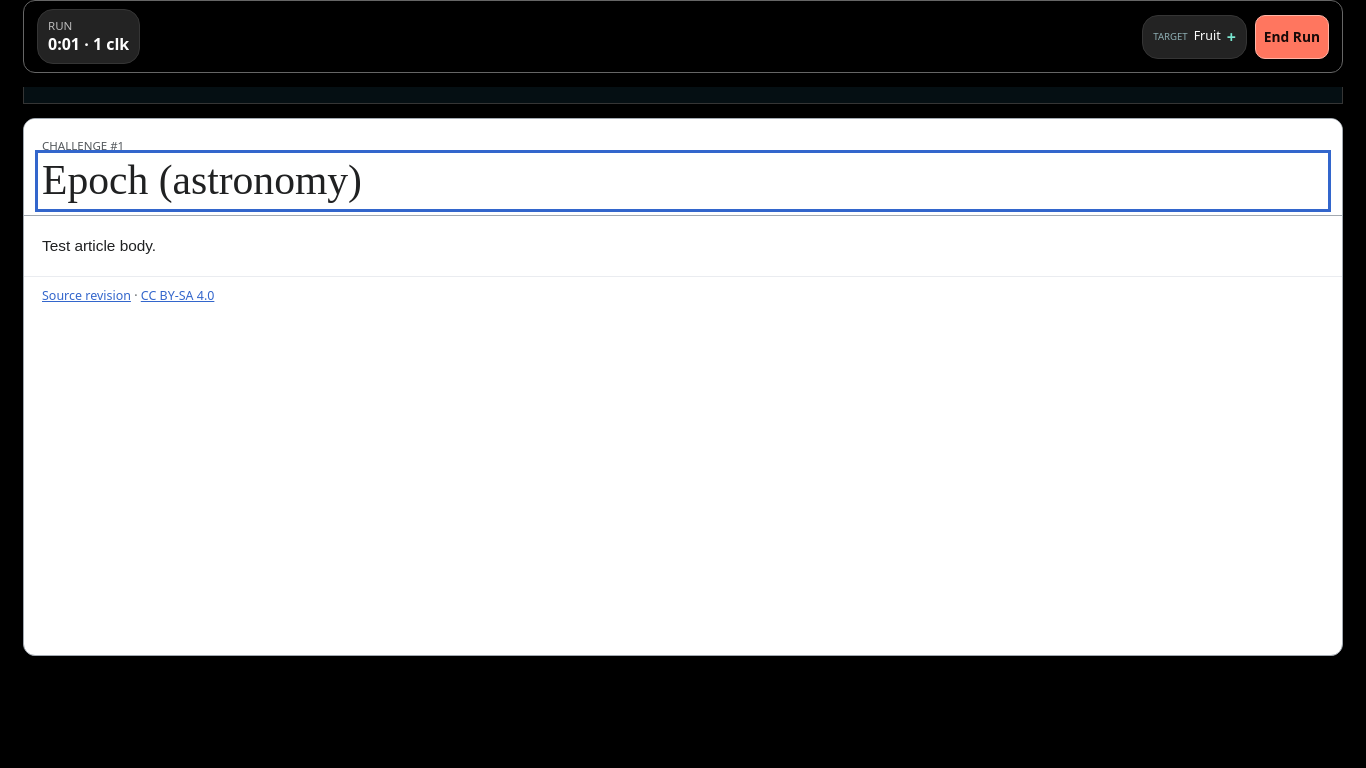
RaceMode › target chip (sticky HUD) › falls back to the not-ready copy when opened before the target preview resolves
Step 1. Click the button with aria-label "Target: Fruit" → (1194, 36), box [1142,14,1247,58]
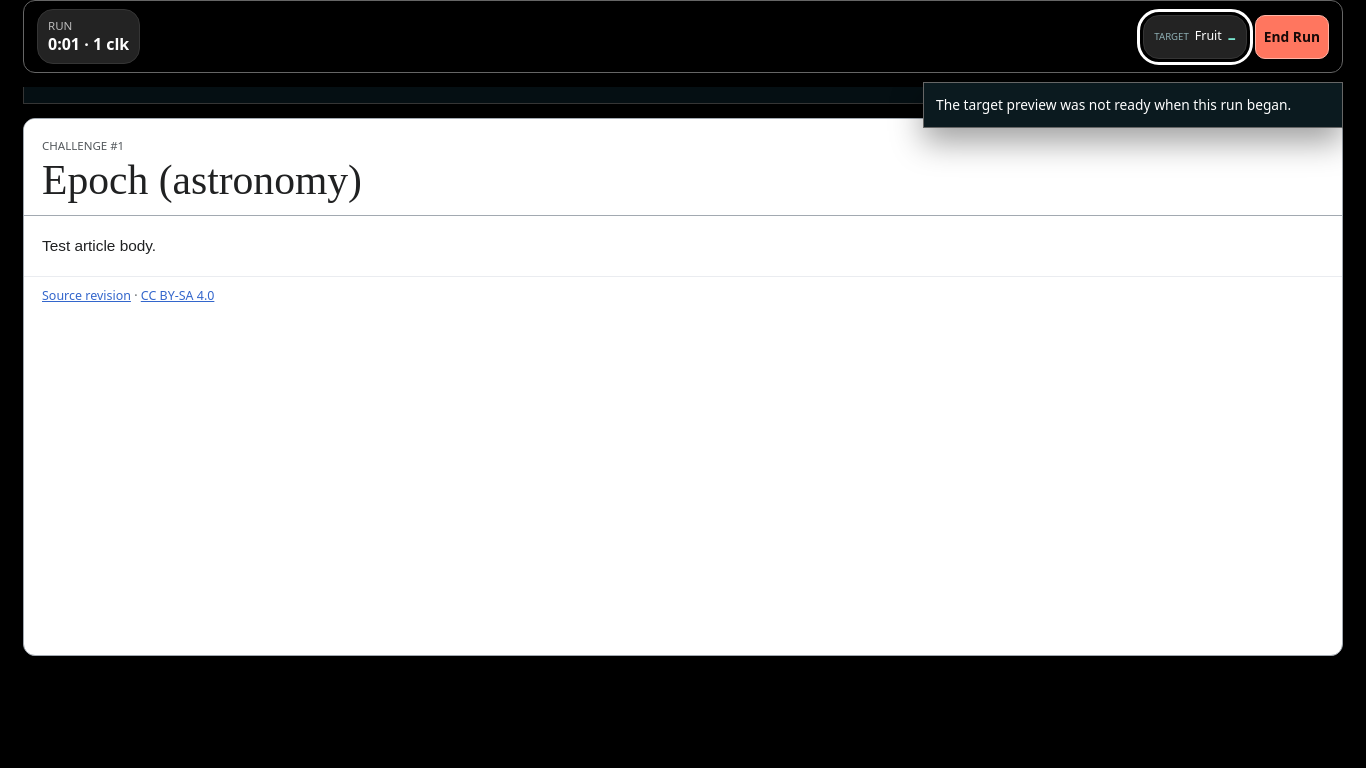
Check: the text "The target preview was not ready when this run began." is shown, box [923,82,1343,128]
